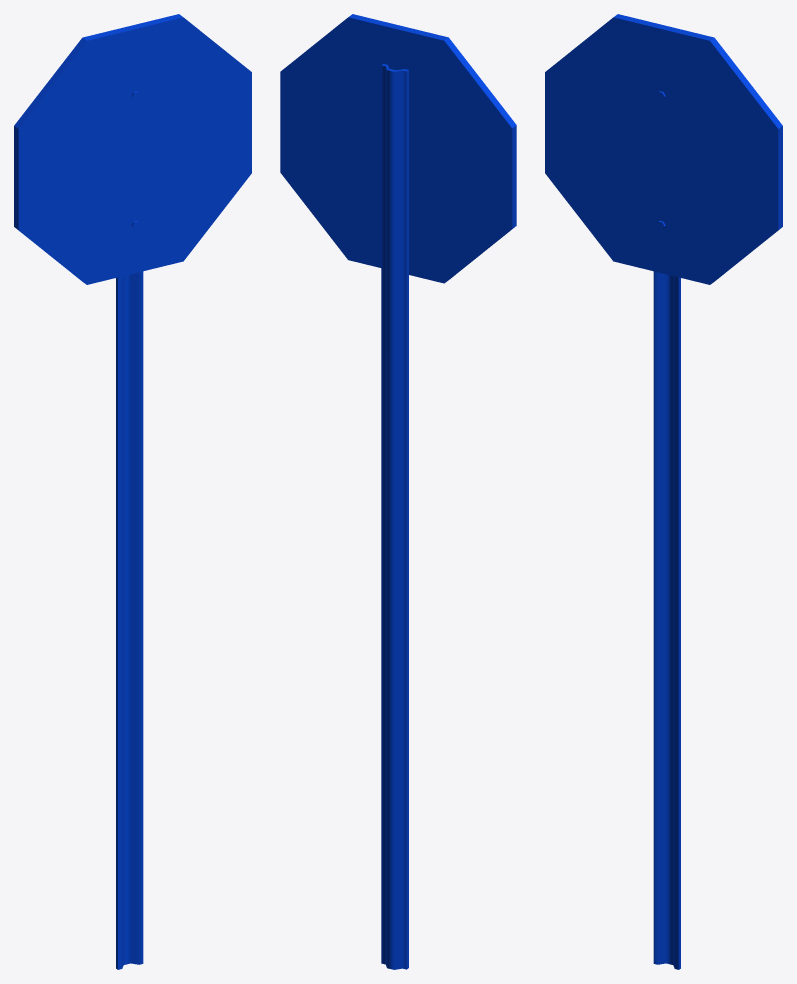
The model's file is Envi_StopSign_v03.fbx.
3 renders of one model, left to right at view 1: azimuth 30°, elevation 25°; view 2: azimuth 150°, elevation 25°; view 3: azimuth 330°, elevation 25°, orthographic.
Parts seen in each view (by area): view 1: Truck_Ex_Set01_StopSign_Face, Truck_Ex_Set01_StopSign_Stand; view 2: Truck_Ex_Set01_StopSign_Face, Truck_Ex_Set01_StopSign_Stand; view 3: Truck_Ex_Set01_StopSign_Face, Truck_Ex_Set01_StopSign_Stand.
Part boxes in pixels (left/top/right/bottom): Truck_Ex_Set01_StopSign_Face: left=14, top=14, right=251, bottom=284; Truck_Ex_Set01_StopSign_Stand: left=116, top=271, right=143, bottom=969; Truck_Ex_Set01_StopSign_Face: left=280, top=14, right=516, bottom=283; Truck_Ex_Set01_StopSign_Stand: left=381, top=64, right=408, bottom=969; Truck_Ex_Set01_StopSign_Face: left=545, top=14, right=782, bottom=284; Truck_Ex_Set01_StopSign_Stand: left=653, top=271, right=680, bottom=969.
Bounding box in the file's own units: 29.56 × 114 × 2.51.
